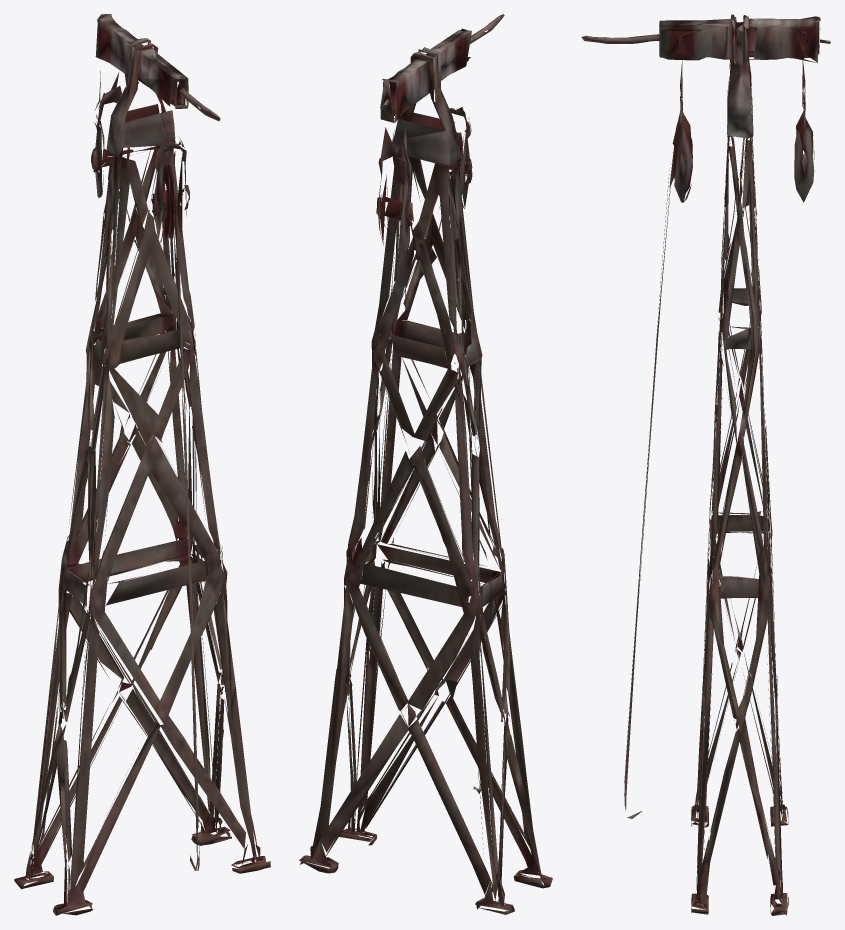
The model's file is torre_andarivel.movil.glb.
3 views of the same model, side by side, from view 1: azimuth 30°, elevation 25°; view 2: azimuth 150°, elevation 25°; view 3: azimuth 270°, elevation 25° (orthographic). The views are drawn at different scales.
Parts seen in each view (by area): view 1: geometry_0; view 2: geometry_0; view 3: geometry_0.
Boxes of the visible parts, x1,y1,x2,y2 form: geometry_0: (14,14,270,915); geometry_0: (299,14,552,914); geometry_0: (581,14,830,915).
Bounding box in the file's own units: 2.39 × 8.99 × 2.4.
Materials: 1 (1 with a texture image).
